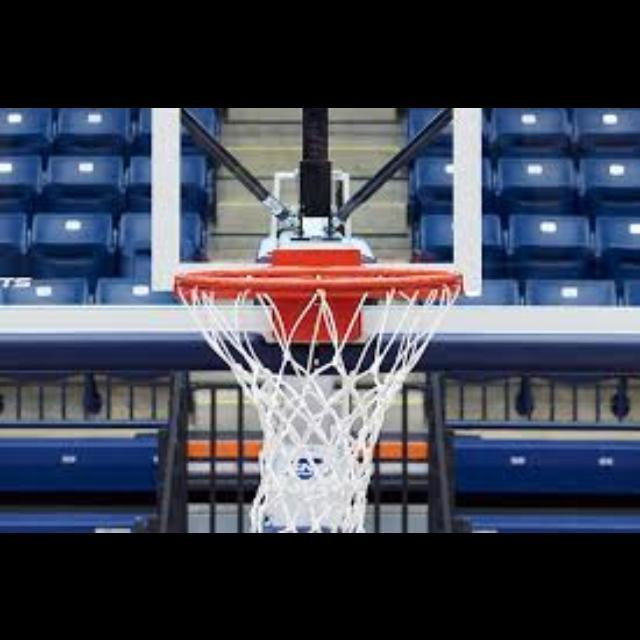rim: (175, 267, 462, 533)
